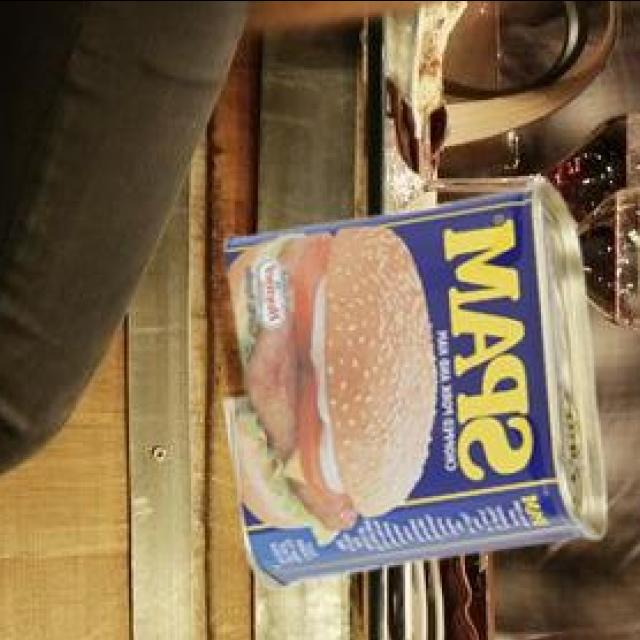logam: (227, 185, 609, 591)
